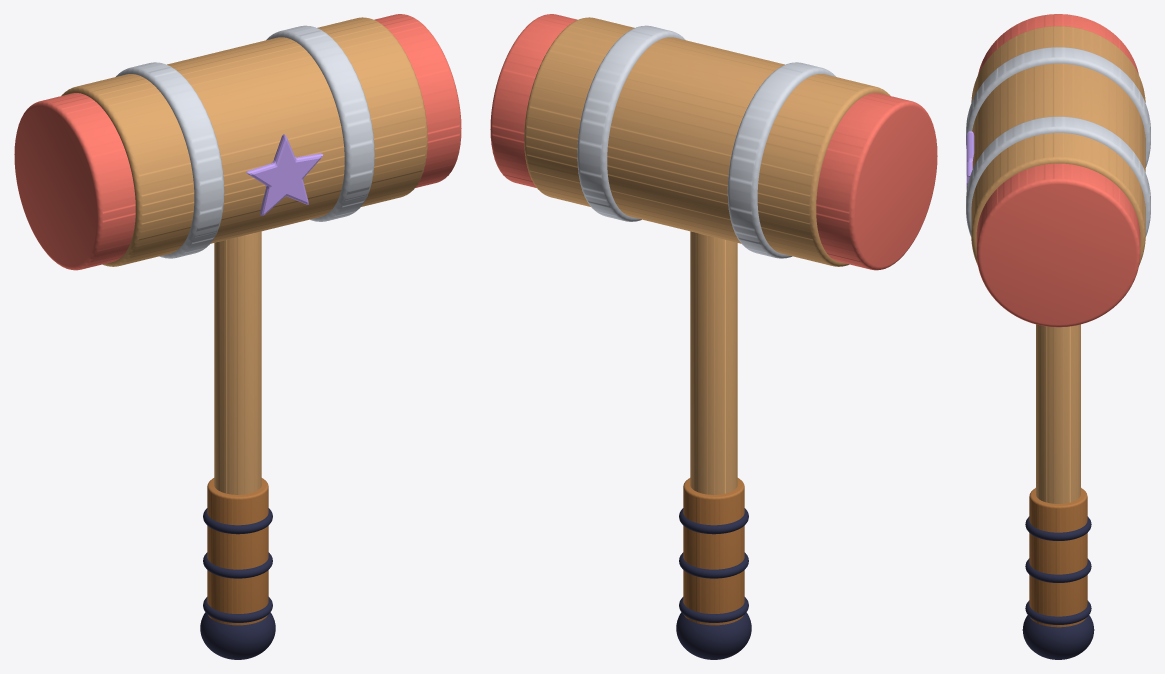
File: hammer.glb
3 renders of one model, left to right at view 1: azimuth 30°, elevation 25°; view 2: azimuth 150°, elevation 25°; view 3: azimuth 270°, elevation 25°, orthographic. The views are drawn at different scales.
Visible parts, largest first — view 1: Head, Face0, Hammer, Grip, Band1, Band0, Face1, Star, Pommel, Ring1, Ring2, Ring0; view 2: Head, Face0, Hammer, Grip, Band1, Band0, Face1, Pommel, Ring1, Ring2, Ring0; view 3: Face1, Head, Hammer, Grip, Band1, Band0, Pommel, Face0, Ring0, Ring1, Ring2, Star.
Boxes of the visible parts, <box> form: Head: <box>61,17,427,266</box>; Face0: <box>14,93,135,270</box>; Hammer: <box>214,231,261,494</box>; Grip: <box>207,478,268,625</box>; Band1: <box>266,25,374,221</box>; Band0: <box>116,62,224,258</box>; Face1: <box>374,14,461,187</box>; Star: <box>246,134,322,215</box>; Pommel: <box>200,612,275,659</box>; Ring1: <box>203,552,272,578</box>; Ring2: <box>203,508,272,534</box>; Ring0: <box>203,597,272,622</box>; Head: <box>524,17,890,266</box>; Face0: <box>816,93,937,270</box>; Hammer: <box>690,231,737,494</box>; Grip: <box>683,478,744,625</box>; Band1: <box>577,25,685,221</box>; Band0: <box>727,62,835,258</box>; Face1: <box>490,14,577,187</box>; Pommel: <box>676,612,751,659</box>; Ring1: <box>679,552,748,578</box>; Ring2: <box>679,508,748,534</box>; Ring0: <box>679,597,748,622</box>; Face1: <box>976,163,1140,327</box>; Head: <box>971,26,1145,264</box>; Hammer: <box>1036,324,1080,503</box>; Grip: <box>1029,488,1087,627</box>; Band1: <box>966,116,1150,236</box>; Band0: <box>966,47,1150,167</box>; Pommel: <box>1022,615,1094,659</box>; Face0: <box>978,14,1138,73</box>; Ring0: <box>1025,600,1091,624</box>; Ring1: <box>1025,558,1091,582</box>; Ring2: <box>1025,516,1091,540</box>; Star: <box>966,131,974,189</box>.
Size of the model in its own units: 0.3 by 0.4745 by 0.1397.
